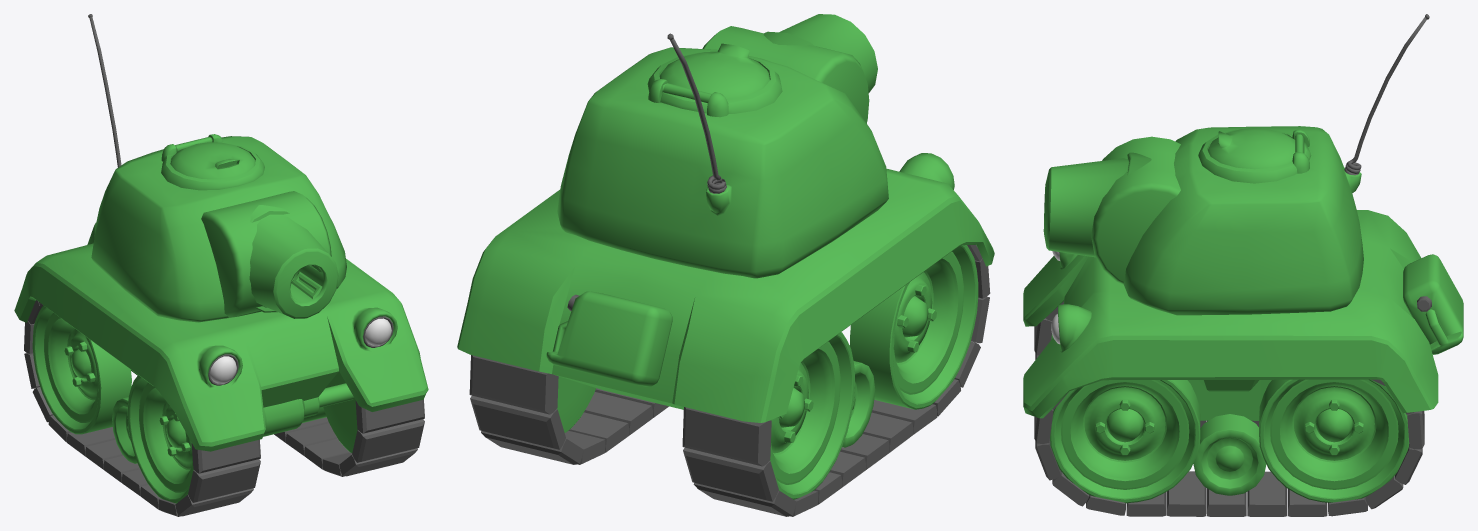
File: GreenTank2.fbx
The picture shows the model from 3 angles, left to right: view 1: azimuth 30°, elevation 25°; view 2: azimuth 150°, elevation 25°; view 3: azimuth 270°, elevation 25°; orthographic projection. The views are drawn at different scales.
Visible parts, largest first — view 1: TankChassis, TankTurret, TankTracksRight, Tankcannon, TankTracksLeft; view 2: TankChassis, TankTurret, TankTracksRight, TankTracksLeft, Tankcannon; view 3: TankChassis, TankTracksLeft, TankTurret, Tankcannon, TankTracksRight.
Part boxes in pixels (<box>): TankChassis: <box>14,223,428,463</box>; TankTurret: <box>88,14,346,322</box>; TankTracksRight: <box>24,300,260,516</box>; Tankcannon: <box>201,191,338,318</box>; TankTracksLeft: <box>274,371,424,476</box>; TankChassis: <box>457,153,994,447</box>; TankTurret: <box>557,33,888,278</box>; TankTracksRight: <box>682,245,990,516</box>; TankTracksLeft: <box>469,355,668,464</box>; Tankcannon: <box>702,14,877,123</box>; TankChassis: <box>1023,210,1463,495</box>; TankTracksLeft: <box>1034,379,1424,516</box>; TankTurret: <box>1123,14,1429,315</box>; Tankcannon: <box>1043,136,1180,284</box>; TankTracksRight: <box>1034,301,1258,427</box>.
Bounding box in the file's own units: 170 × 249 × 237.
